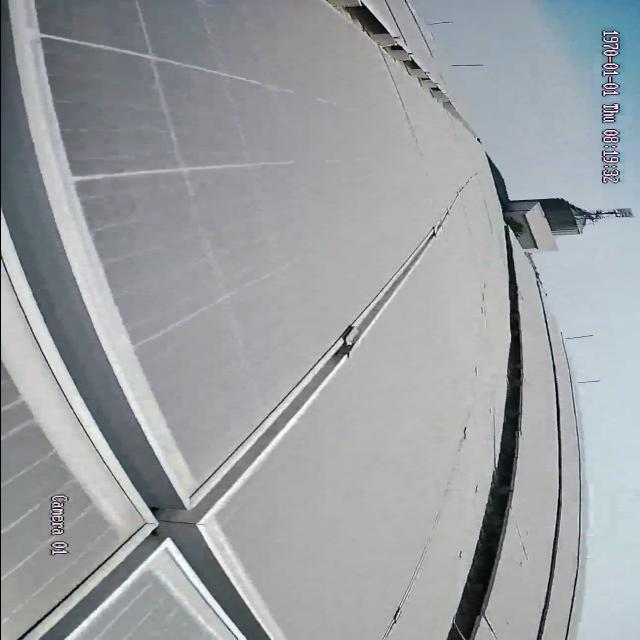interior panel: (0, 0, 447, 640)
outher panel: (444, 264, 528, 640)
